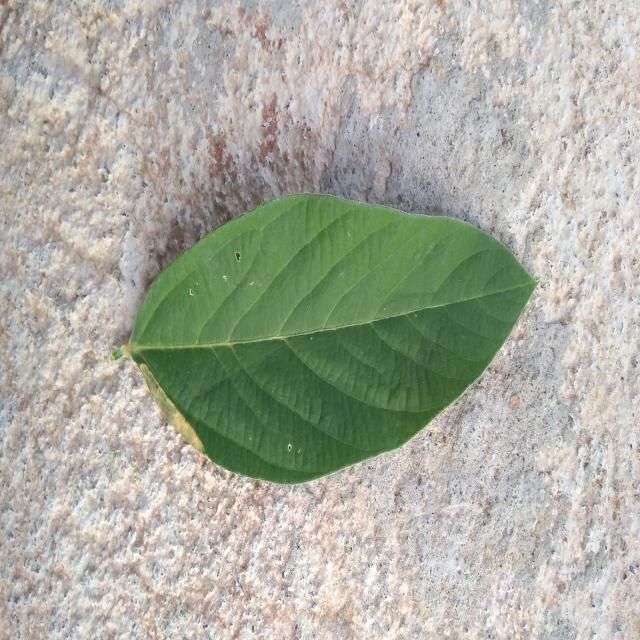pea: (112, 193, 536, 484)
